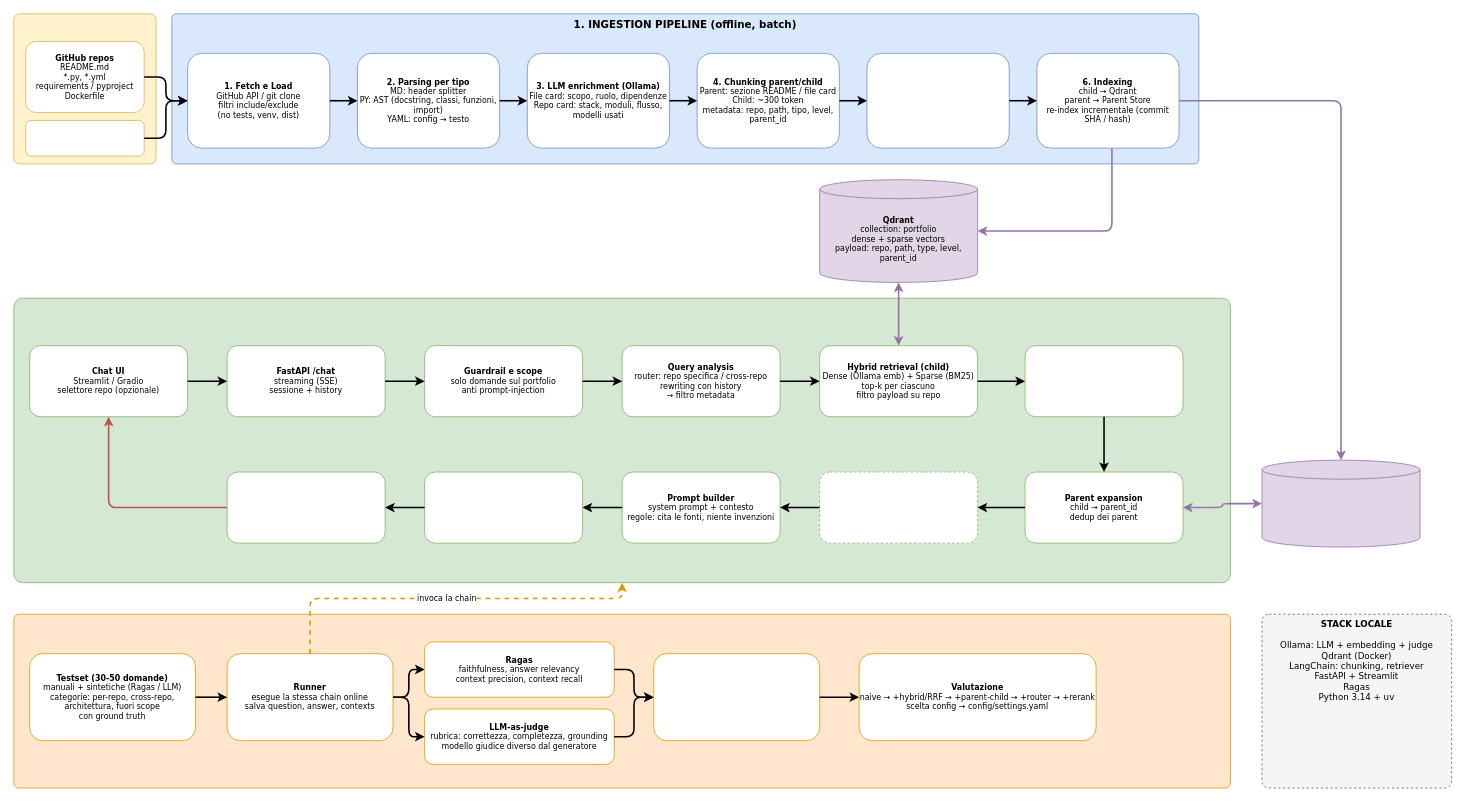
Image size: 1465x802. Some labels were removed from this diagram. Each missing label, with the box of its shape:
2. QUERY PIPELINE (online): (13, 297, 1230, 583)
3. VALUTAZIONE (offline, iterativa): (13, 613, 1230, 788)
5. Embedding Dense: bge-m3 / nomic-embed-text (Ollama) Sparse: BM25 (FastEmbed): (866, 53, 1009, 148)
LLM generation Ollama: qwen2.5:7b / llama3.1:8b: (424, 471, 583, 543)
Parent Store SQLite / LocalFileStore parent_id → testo completo: (1261, 459, 1420, 547)
profile.md bio / CV / LinkedIn: (25, 120, 144, 156)
Report ed esperimenti CSV / JSON (o MLflow) confronto tra configurazioni: (653, 653, 820, 741)
Reranker (opzionale) cross-encoder (bge-reranker) → top-n parent: (819, 471, 978, 543)
Risposta + citazioni repo / file / sezione link GitHub: (226, 471, 385, 543)
RRF fusion score = Σ 1/(k + rank), k=60 → top-N child: (1024, 345, 1183, 417)
SORGENTI: (13, 13, 156, 164)
